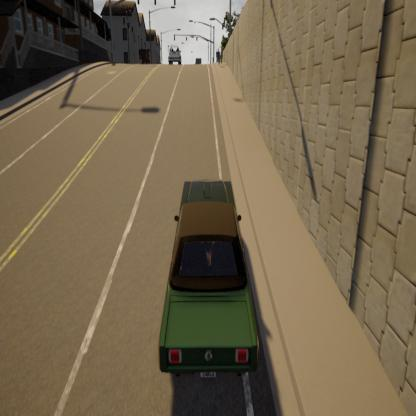Cars: (151, 163, 265, 388), (165, 43, 184, 68)
Pedestrian: (216, 48, 222, 67)
